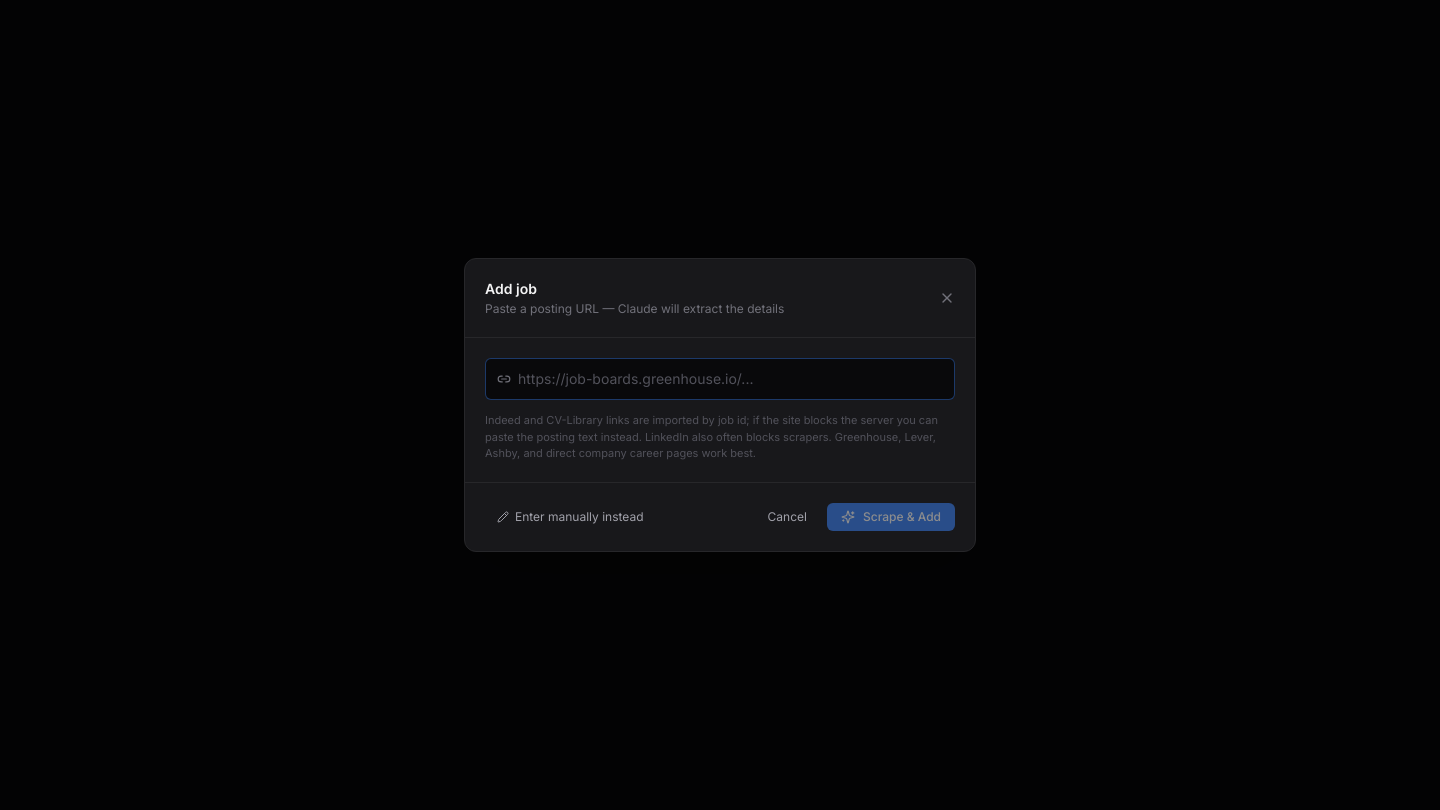
it: AddFromUrlModal + API client › asks for pasted text when CV-Library blocks the fetch
Type "https://www.cv-library.co.uk/job/1" into the field with placeholder "https://job-boards.greenhouse.io/..." at (720, 379), box x1=485 y1=358 x2=955 y2=400
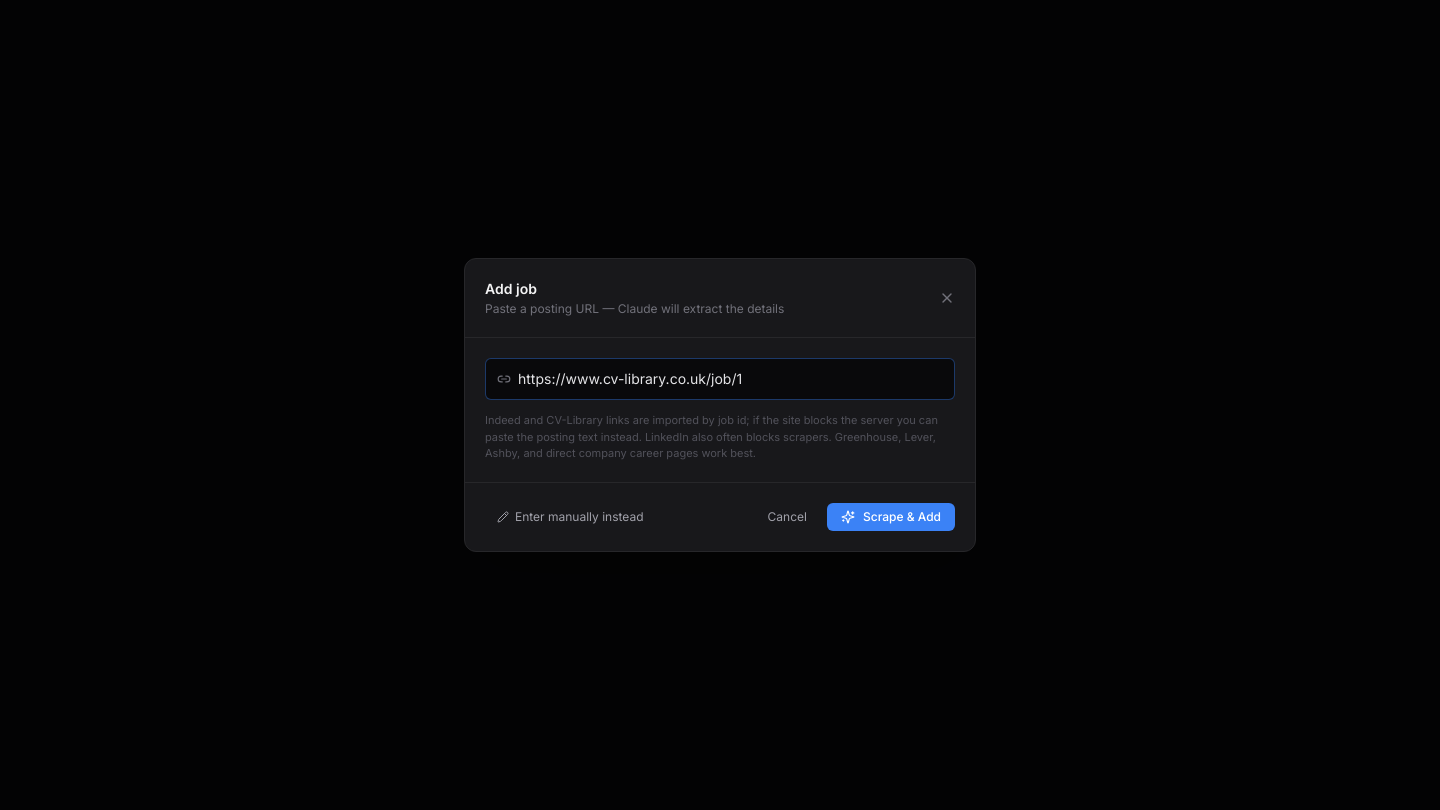
Click the button "Scrape & Add" at (891, 517), box x1=827 y1=503 x2=955 y2=531
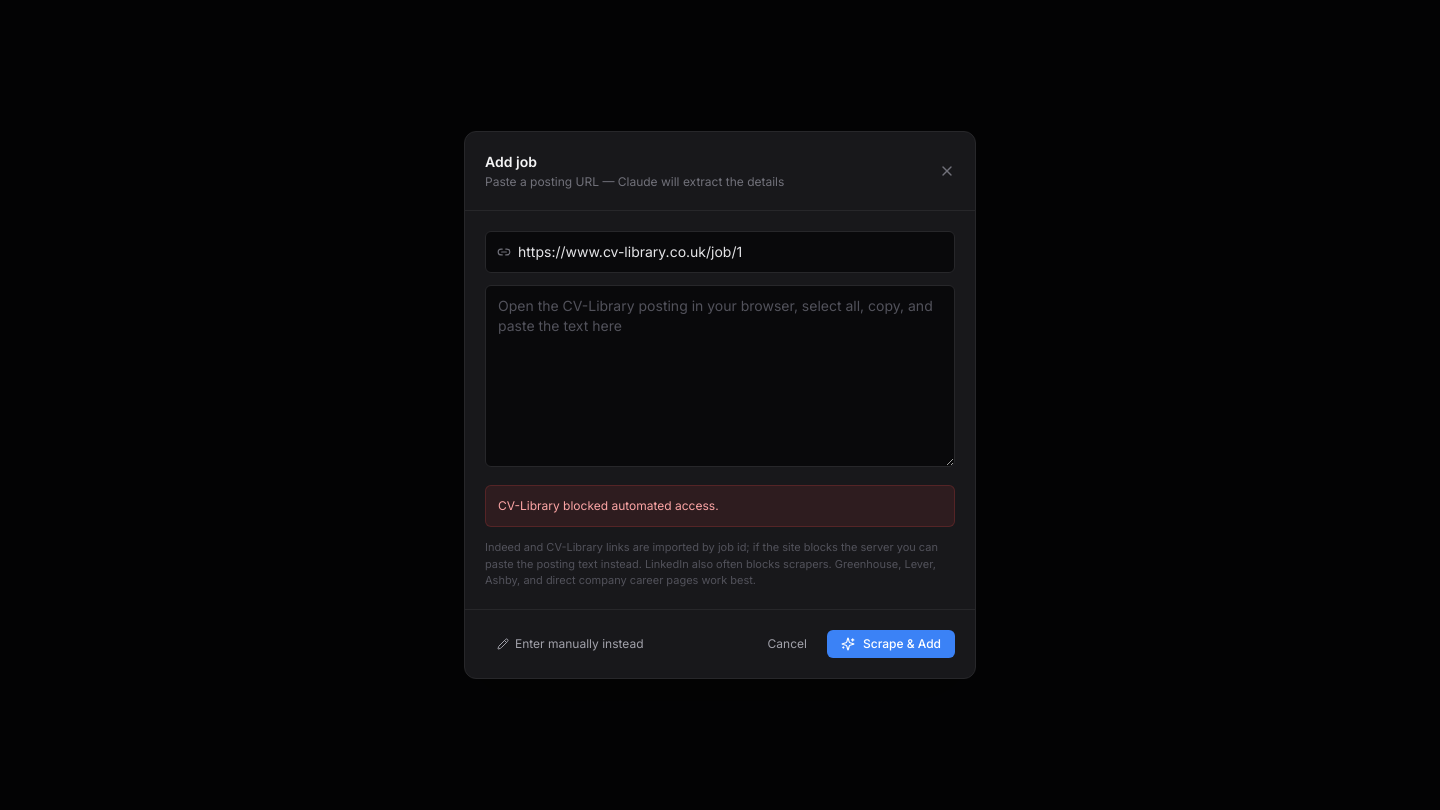
Now the text "CV-Library blocked automated access." is shown, box x1=485 y1=485 x2=955 y2=527
Now the text box with placeholder "Open the CV-Library posting" is shown, box x1=485 y1=285 x2=955 y2=467
